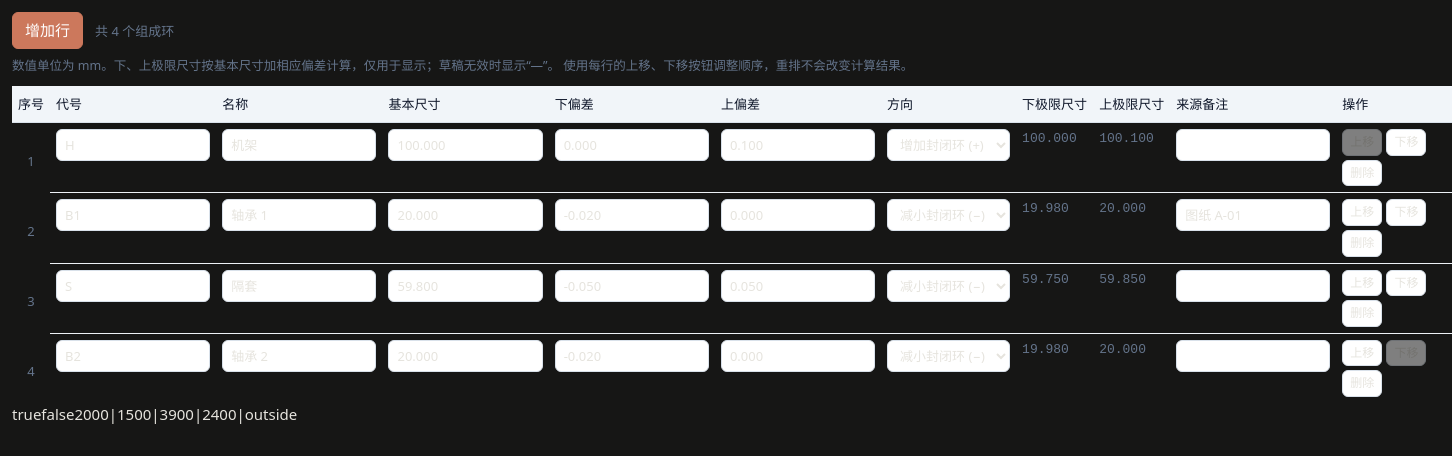
it: DimensionTable：逐格错误 › 把偏差顺序错误定位到对应组成环的上偏差单元格
Replace the text in the field named "S 上偏差" with "-0.1000". click: (798, 286)
box: [721,270,875,302]
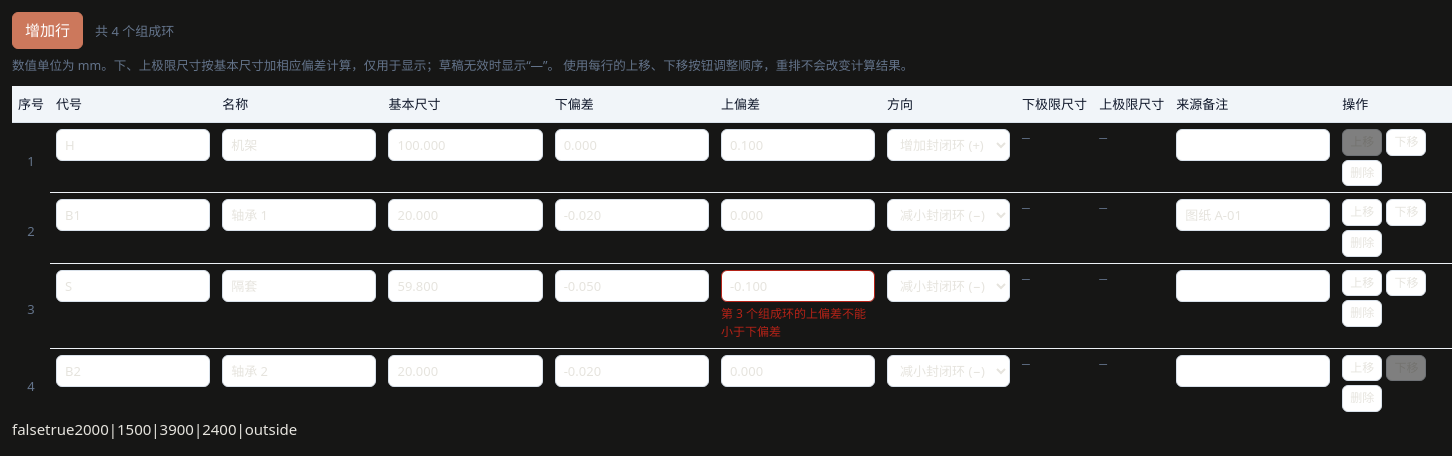
Expected: the text with test id "stale" reads "true", [45,419,74,439]
